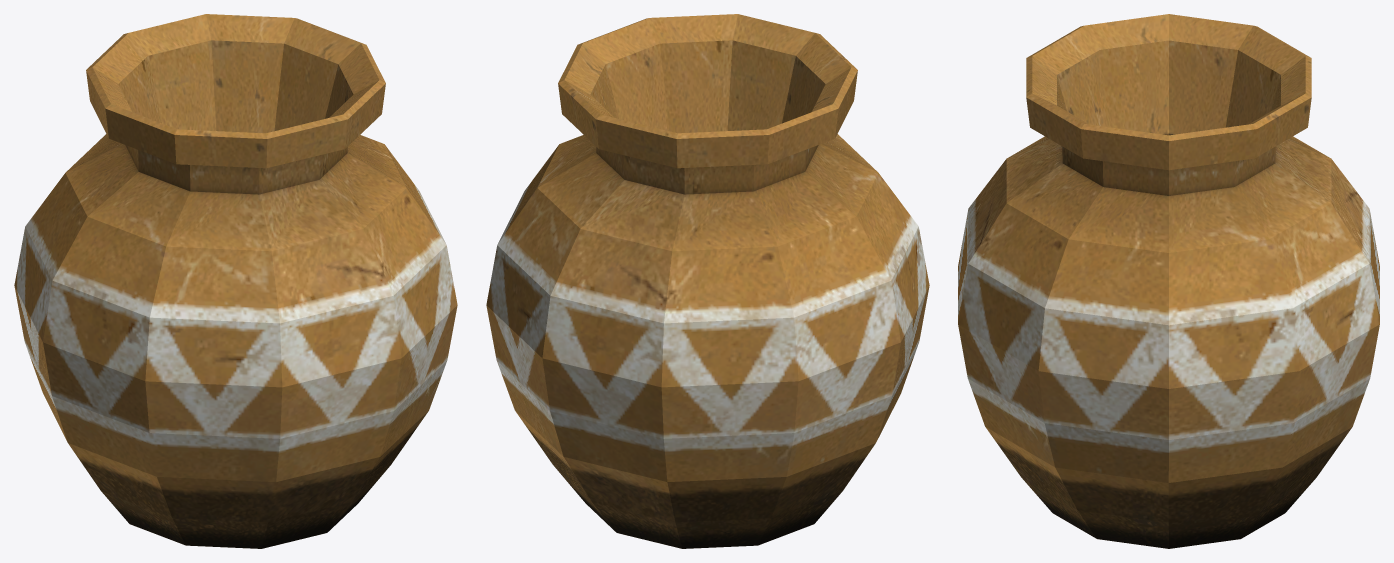
The model's file is Orange_Pot_258.obj.
3 renders of one model, left to right at view 1: azimuth 30°, elevation 25°; view 2: azimuth 150°, elevation 25°; view 3: azimuth 270°, elevation 25°, orthographic.
Visible parts, largest first — view 1: Orange_Pot_258_258; view 2: Orange_Pot_258_258; view 3: Orange_Pot_258_258.
Boxes of the visible parts, x1,y1,x2,y2 form: Orange_Pot_258_258: [14, 14, 457, 548]; Orange_Pot_258_258: [486, 14, 929, 548]; Orange_Pot_258_258: [958, 14, 1379, 548].
Bounding box in the file's own units: 0.3201 × 0.3364 × 0.3044.
Materials: 1 (1 with a texture image).
